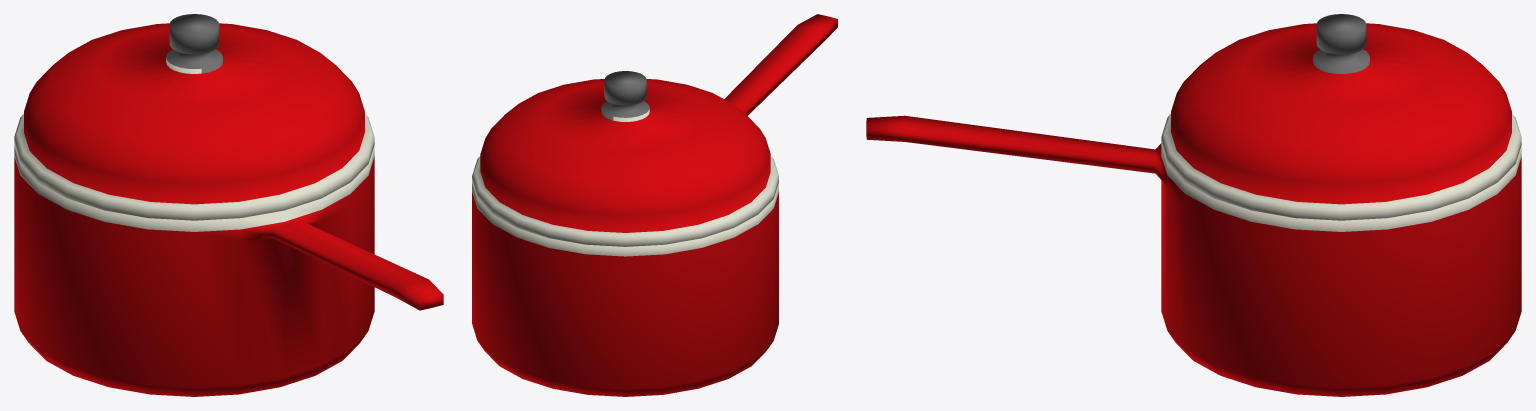
Rendered from nabe_A.fbx.
The picture shows the model from 3 angles, left to right: view 1: azimuth 30°, elevation 25°; view 2: azimuth 150°, elevation 25°; view 3: azimuth 270°, elevation 25°; orthographic projection. The views are drawn at different scales.
Visible parts, largest first — view 1: nabeA, nabeA_lid1; view 2: nabeA, nabeA_lid1; view 3: nabeA, nabeA_lid1.
Part boxes in pixels (left/top/right/bottom): nabeA: left=14, top=145, right=443, bottom=396; nabeA_lid1: left=14, top=14, right=374, bottom=220; nabeA: left=472, top=14, right=837, bottom=396; nabeA_lid1: left=472, top=71, right=778, bottom=246; nabeA: left=866, top=115, right=1521, bottom=396; nabeA_lid1: left=1161, top=14, right=1521, bottom=220.
Bounding box in the file's own units: 28 × 25.72 × 50.92.
